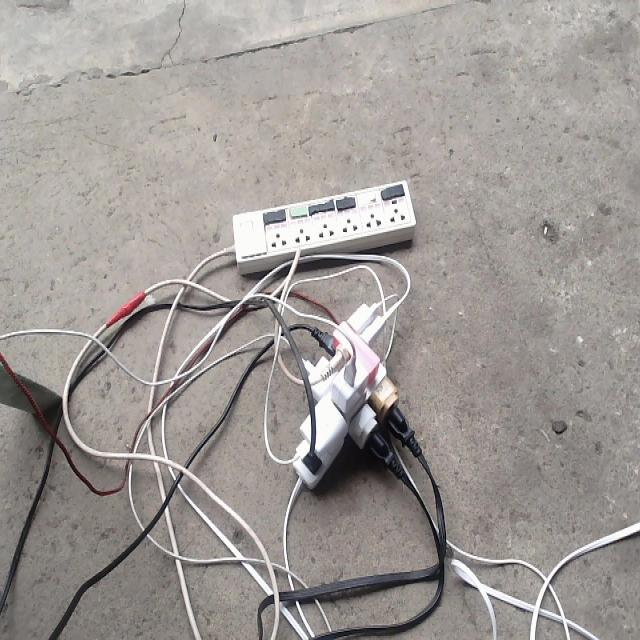-: (264, 294, 427, 490)
